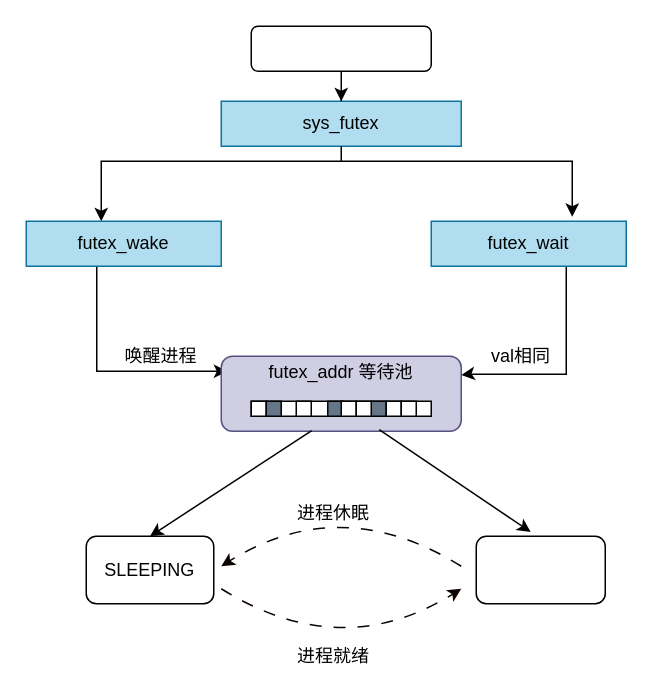
Image size: 653x698. Some labels were removed from this diagram. Each missing label, with the box of its shape:
RUNABLE: (475, 535, 605, 604)
用户进程/线程: (250, 25, 431, 71)
